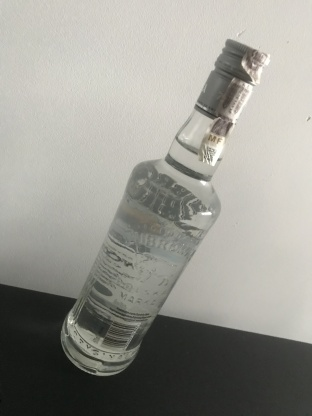nakretka: (192, 36, 271, 128)
